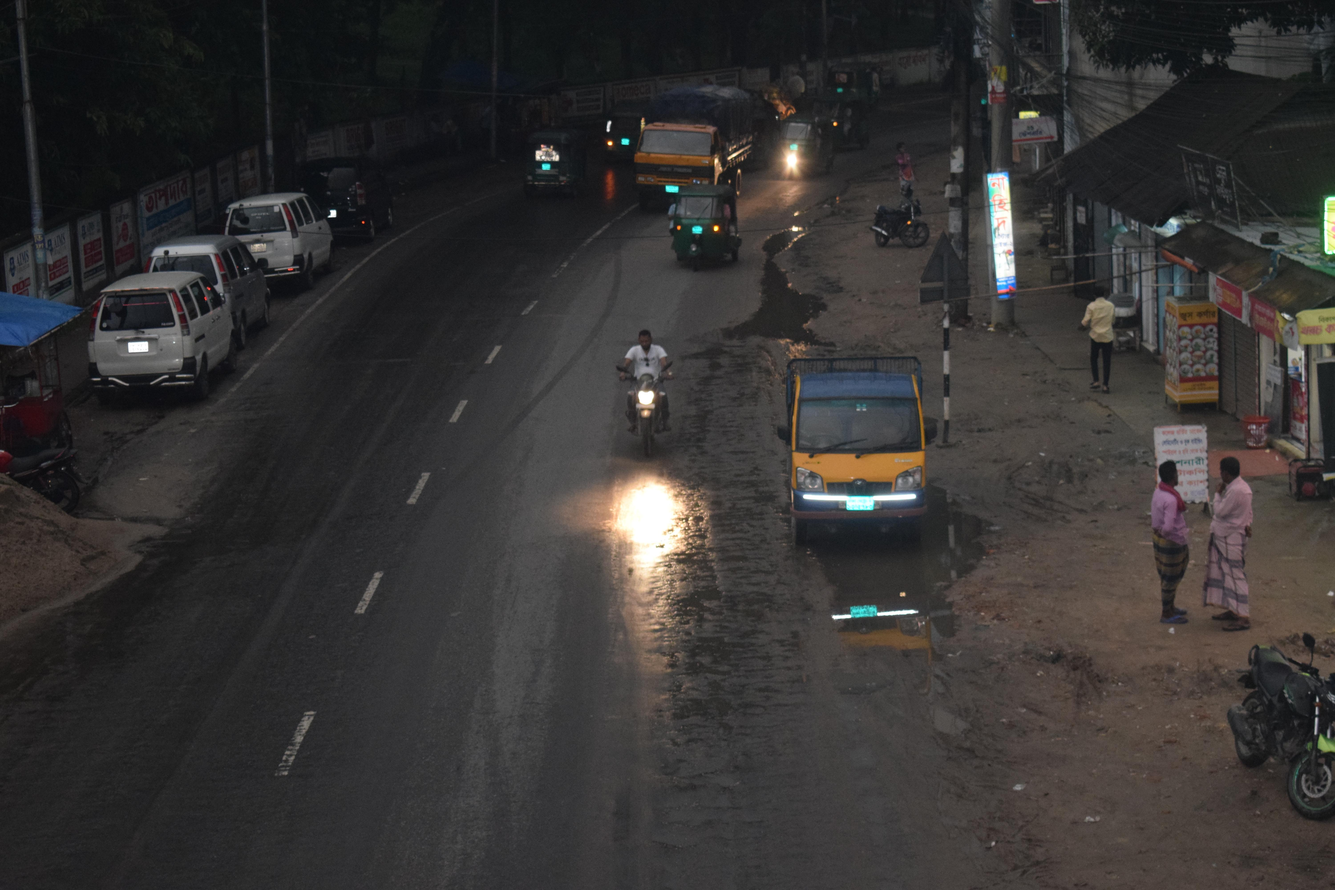Bike: (1204, 606, 1335, 866), (587, 313, 702, 492), (846, 167, 953, 275)
Car: (64, 263, 242, 423), (132, 221, 284, 338), (211, 174, 346, 289)
Truck: (748, 324, 968, 576), (615, 71, 769, 220)
